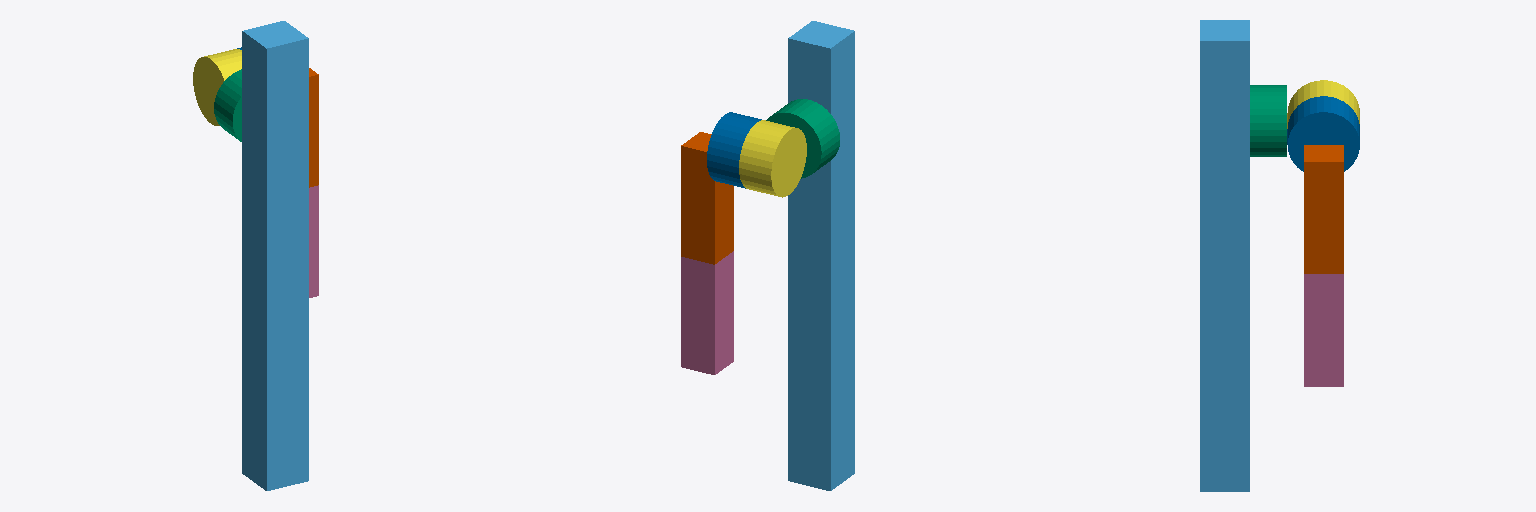
The robot description file, URDF, robot "leg":
<?xml version="1.0"?>
<robot name="leg">

  <!-- "world" link -->
  <link name="world"/>
  <gazebo reference="world">
    <static>true</static>
  </gazebo>

  <!--////////////////////////////////   link    ////////////////////////////////-->

  <link name="base">
    <collision>
      <origin xyz="0 0 0.5" rpy="0 0 0"/>
      <geometry>
        <box size="0.1 0.1 1"/>
      </geometry>
    </collision>
    <visual>
      <origin xyz="0 0 0.5" rpy="0 0 0"/>
      <geometry>
        <box size="0.1 0.1 1"/>
      </geometry>
    </visual>
    <inertial>
      <origin xyz="0 0 0.5" rpy="0 0 0"/>
      <mass value="10"/>
      <inertia ixx="0" ixy="0" ixz="0" iyy="0" iyz="0" izz="0" />
    </inertial>
  </link>
  <gazebo reference="base">
    <material>Gazebo/Orange</material>
  </gazebo>


  <link name="actuator1">
    <collision>
      <origin xyz="0 0.0381 0" rpy="1.5708 0 0"/>
      <geometry>
        <cylinder length="0.0762" radius="0.073"/>
      </geometry>
    </collision>
    <visual>
      <origin xyz="0 0.0381 0" rpy="1.5708 0 0"/>
      <geometry>
        <cylinder length="0.0762" radius="0.073"/>
      </geometry>
    </visual>
    <inertial>
      <origin xyz="0 0.0381 0" rpy="1.5708 0 0"/>
      <mass value="1.75"/>
      <inertia ixx="0.001541527" ixy="0.000007051" ixz="-0.000001356" iyy="0.001938779" iyz="0.000000659" izz="0.001547151"/>
    </inertial>
  </link>
  <gazebo reference="actuator1">
    <material>Gazebo/Grey</material>
  </gazebo>


  <link name="actuator2">
    <collision>
      <origin xyz="0 0.073 0" rpy="0 1.5708 0"/>
      <geometry>
        <cylinder length="0.0762" radius="0.073"/>
      </geometry>
    </collision>
    <visual>
      <origin xyz="0 0.073 0" rpy="0 1.5708 0"/>
      <geometry>
        <cylinder length="0.0762" radius="0.073"/>
      </geometry>
    </visual>
    <inertial>
      <origin xyz="0 0.073 0" rpy="0 1.5708 0"/>
      <mass value="1.75"/>
      <inertia ixx="0.001541527" ixy="0.000007051" ixz="-0.000001356" iyy="0.001938779" iyz="0.000000659" izz="0.001547151"/>
    </inertial>
  </link>
  <gazebo reference="actuator2">
    <material>Gazebo/Grey</material>
  </gazebo>


  <link name="actuator3">
    <collision>
      <origin xyz="0.0381 0 0" rpy="0 1.5708 0"/>
      <geometry>
        <cylinder length="0.0762" radius="0.073"/>
      </geometry>
    </collision>
    <visual>
      <origin xyz="0.0381 0 0" rpy="0 1.5708 0"/>
      <geometry>
        <cylinder length="0.0762" radius="0.073"/>
      </geometry>
    </visual>
    <inertial>
      <origin xyz="0.0381 0 0" rpy="0 1.5708 0"/>
      <mass value="1.75"/>
      <inertia ixx="0.001541527" ixy="0.000007051" ixz="-0.000001356" iyy="0.001938779" iyz="0.000000659" izz="0.001547151"/>
    </inertial>
  </link>
  <gazebo reference="actuator3">
    <material>Gazebo/Grey</material>
  </gazebo>


  <link name="link1">
    <collision>
      <origin xyz="0.04 0 -0.125" rpy="0 0 0"/>
      <geometry>
        <box size="0.08 0.08 0.25"/>
      </geometry>
    </collision>
    <visual>
      <origin xyz="0.04 0 -0.125" rpy="0 0 0"/>
      <geometry>
        <box size="0.08 0.08 0.25"/>
      </geometry>
    </visual>
    <inertial>
      <origin xyz="0.04 0 -0.125" rpy="0 0 0"/>
      <mass value="1"/>
      <inertia ixx="0.00574167" ixy="0" ixz="0" iyy="0.00574167" iyz="0" izz="0.00106667"/>
    </inertial>
  </link>
  <gazebo reference="link1">
    <material>Gazebo/Yellow</material>
  </gazebo>


  <link name="link2">
    <collision>
      <origin xyz="0.04 0 -0.125" rpy="0 0 0"/>
      <geometry>
        <box size="0.08 0.08 0.25"/>
      </geometry>
    </collision>
    <visual>
      <origin xyz="0.04 0 -0.125" rpy="0 0 0"/>
      <geometry>
        <box size="0.08 0.08 0.25"/>
      </geometry>
    </visual>
    <inertial>
      <origin xyz="0.04 0 -0.125" rpy="0 0 0"/>
      <mass value="1"/>
      <inertia ixx="0.00574167" ixy="0" ixz="0" iyy="0.00574167" iyz="0" izz="0.00106667"/>
    </inertial>
  </link>
  <gazebo reference="link2">
    <material>Gazebo/White</material>
  </gazebo>



  <!--////////////////////////////////   joint    ////////////////////////////////-->

  <joint name="fixed_base" type="fixed">
    <origin xyz="0 0 0" rpy="0 0 0"/>
    <parent link="world"/>
    <child link="base"/>
  </joint>

  <joint name="joint1" type="continuous">
    <origin xyz="0 0.05 0.8" rpy="0 0 0"/>
    <parent link="base"/>
    <child link="actuator1"/>
    <axis xyz="0 1 0"/>
    <dynamics damping="1.5"/>
  </joint>

  <joint name="fixed_actuator_1" type="fixed">
    <origin xyz="0 0.0762 0" rpy="0 0 0"/>
    <parent link="actuator1"/>
    <child link="actuator2"/>
    <!--
    <axis xyz="1 0 0"/>
    <limit effort="1000" upper="0" lower="0" velocity="0"/>
    -->
  </joint>

  <joint name="fixed_actuator_2" type="fixed">
    <origin xyz="0.0381 0.073 0" rpy="0 0 0"/>
    <parent link="actuator2"/>
    <child link="actuator3"/>
  </joint>
  
  <joint name="joint2" type="continuous">
    <origin xyz="0.0762 0 0" rpy="0 0 0"/>
    <parent link="actuator3"/>
    <child link="link1"/>
    <axis xyz="1 0 0"/>
    <dynamics damping="1.5"/>
  </joint>

  <joint name="joint3" type="continuous">
    <origin xyz="0 0 -0.25" rpy="0 0 0"/>
    <parent link="link1"/>
    <child link="link2"/>
    <axis xyz="1 0 0"/>
    <dynamics damping="1.5"/>
  </joint>


  <!--////////////////////////////////   plugin    ////////////////////////////////-->
  
  <gazebo>
    <plugin name="leg_plugin" filename="libleg_plugin.so">
    </plugin>
  </gazebo>

</robot>

--- Render facts (derived) ---
3 views of the same robot in one strip: view 1: azimuth 30°, elevation 25°; view 2: azimuth 150°, elevation 25°; view 3: azimuth 270°, elevation 25° (orthographic).
Model leg with 7 links and 6 joints (3 continuous, 3 fixed), rooted at world, posed every joint at zero.
Visible links, largest first — view 1: base, actuator2, actuator1, link1, link2; view 2: base, link2, link1, actuator2, actuator1, actuator3; view 3: base, link1, link2, actuator3, actuator1, actuator2.
Link boxes in pixels (x1,y1,x2,y2): base: [242, 21, 308, 490]; actuator2: [193, 49, 241, 125]; actuator1: [214, 69, 241, 141]; link1: [309, 68, 318, 187]; link2: [309, 185, 318, 297]; base: [788, 21, 854, 490]; link2: [681, 251, 733, 374]; link1: [681, 132, 733, 264]; actuator2: [739, 120, 806, 197]; actuator1: [766, 99, 839, 178]; actuator3: [707, 112, 761, 188]; base: [1200, 20, 1249, 491]; link1: [1304, 145, 1343, 273]; link2: [1304, 274, 1343, 386]; actuator3: [1287, 96, 1359, 171]; actuator1: [1250, 85, 1286, 156]; actuator2: [1287, 80, 1359, 128].
Bounding box of the posed robot: 0.2673 × 0.3222 × 1 m (x, y, z).
Geometry: primitives only (box / cylinder / sphere), no mesh files.
